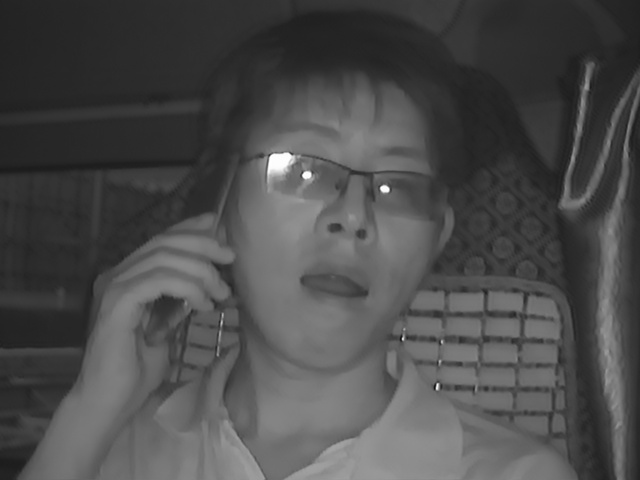hand: (86, 209, 218, 399)
